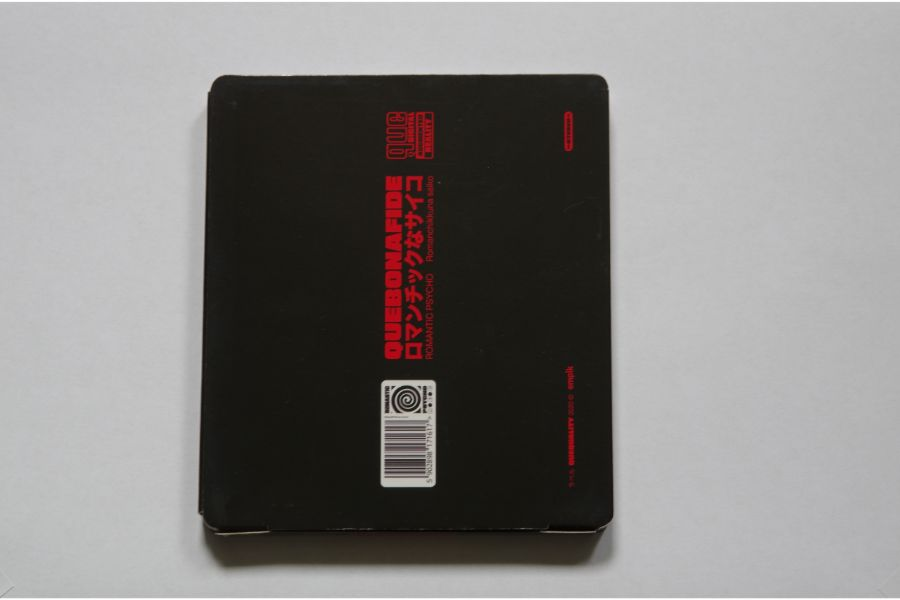album: (196, 67, 613, 533)
